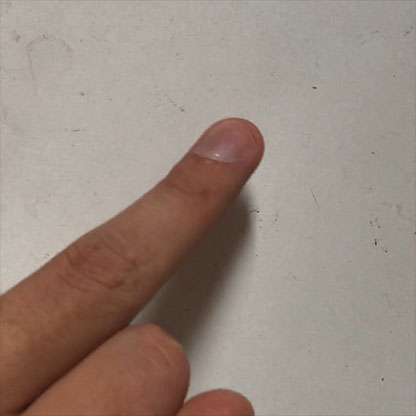fingertip: (181, 109, 281, 189)
